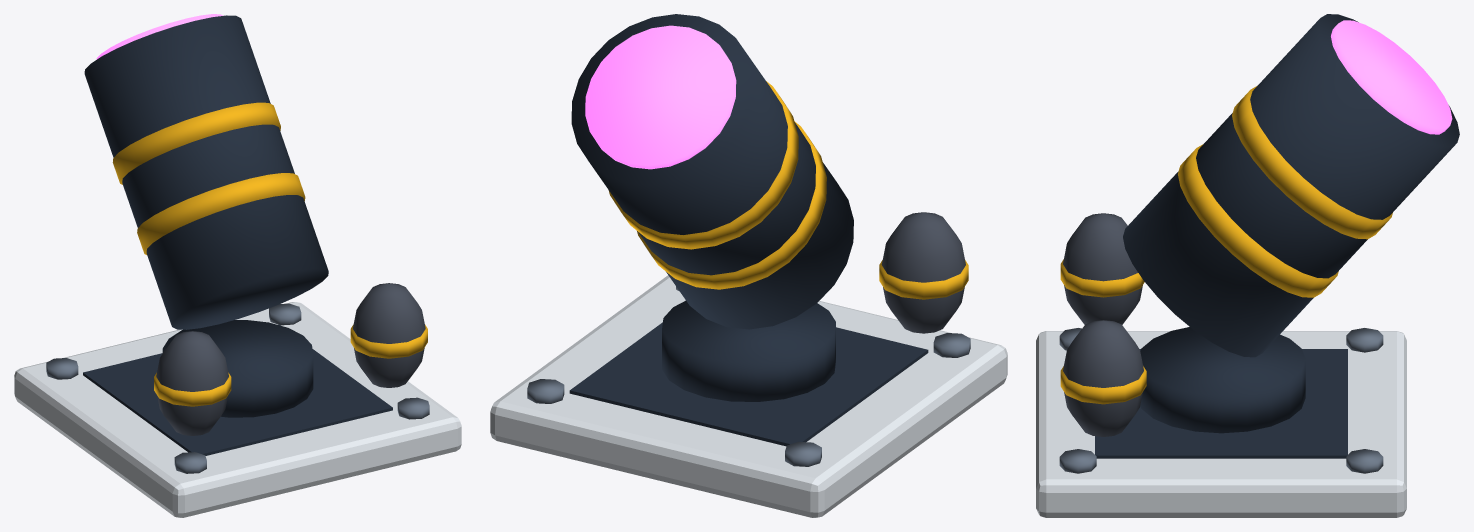
File: mortar.fbx
3 views of the same model, side by side, from view 1: azimuth 30°, elevation 25°; view 2: azimuth 150°, elevation 25°; view 3: azimuth 270°, elevation 25° (orthographic). The views are drawn at different scales.
Visible parts, largest first — view 1: Inset_Tube0.002, Panel_Plate0.008, Inset_Inset0.008, Inset_Ring0.008, Bomb_Shell0, Bomb_Shell1, Hazard_Stripe1, Hazard_Stripe0.001, Hazard_ShellBand0, Hazard_ShellBand1, Emit_Mouth0.001, Gun_Bolt0.008 (+3 smaller); view 2: Panel_Plate0.008, Inset_Tube0.002, Emit_Mouth0.001, Inset_Inset0.008, Inset_Ring0.008, Bomb_Shell0, Hazard_Stripe1, Hazard_Stripe0.001, Hazard_ShellBand0, Gun_Bolt0.008, Gun_Bolt3.008, Gun_Bolt1.008; view 3: Inset_Tube0.002, Panel_Plate0.008, Inset_Ring0.008, Inset_Inset0.008, Emit_Mouth0.001, Bomb_Shell1, Bomb_Shell0, Hazard_Stripe1, Hazard_Stripe0.001, Hazard_ShellBand1, Hazard_ShellBand0, Gun_Bolt3.008 (+2 smaller).
Boxes of the visible parts, x1,y1,x2,y2 form: Inset_Tube0.002: (84, 15, 328, 329); Panel_Plate0.008: (14, 302, 461, 517); Inset_Inset0.008: (83, 324, 392, 455); Inset_Ring0.008: (162, 320, 313, 417); Bomb_Shell0: (156, 331, 228, 435); Bomb_Shell1: (353, 283, 425, 387); Hazard_Stripe1: (112, 102, 280, 184); Hazard_Stripe0.001: (137, 173, 305, 254); Hazard_ShellBand0: (154, 372, 231, 406); Hazard_ShellBand1: (350, 324, 427, 358); Emit_Mouth0.001: (96, 14, 223, 59); Gun_Bolt0.008: (174, 452, 206, 473); Panel_Plate0.008: (490, 275, 1007, 517); Inset_Tube0.002: (571, 14, 853, 329); Emit_Mouth0.001: (585, 25, 736, 169); Inset_Inset0.008: (569, 322, 928, 446); Inset_Ring0.008: (662, 300, 835, 401); Bomb_Shell0: (881, 212, 965, 333); Hazard_Stripe1: (608, 81, 798, 249); Hazard_Stripe0.001: (637, 121, 826, 289); Hazard_ShellBand0: (879, 260, 968, 299); Gun_Bolt0.008: (933, 333, 970, 357); Gun_Bolt3.008: (527, 379, 564, 403); Gun_Bolt1.008: (785, 441, 821, 466); Inset_Tube0.002: (1123, 14, 1459, 357); Panel_Plate0.008: (1036, 331, 1406, 517); Inset_Ring0.008: (1140, 327, 1305, 433); Inset_Inset0.008: (1095, 349, 1347, 458); Emit_Mouth0.001: (1331, 20, 1452, 134); Bomb_Shell1: (1063, 320, 1143, 436); Bomb_Shell0: (1063, 213, 1142, 324); Hazard_Stripe1: (1232, 85, 1392, 239); Hazard_Stripe0.001: (1178, 144, 1338, 297); Hazard_ShellBand1: (1060, 366, 1146, 404); Hazard_ShellBand0: (1060, 259, 1144, 297); Gun_Bolt3.008: (1346, 449, 1383, 473).
Size of the model in its own units: 0.44 by 0.5028 by 0.5462.
